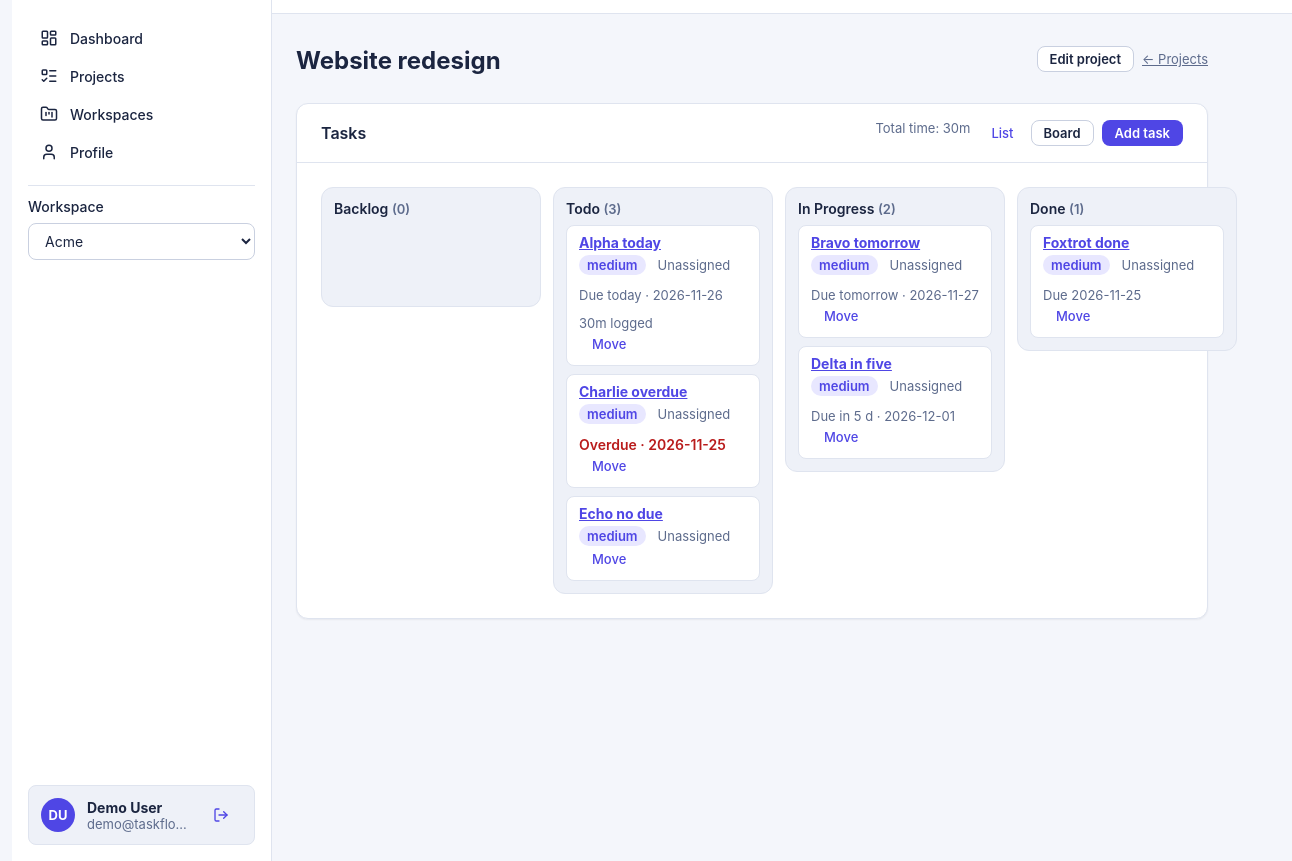
Scenario: ux-polish @w2 — "Board view is deep-linkable via the view param" › ?view=board renders the board; toggling writes ?view=list
The image size is (1292, 861).
Expected: the element with class "board" is shown, [321,187,1183,594]
Click the button "List" at (1002, 133), box [978,120,1026,146]
(page scrolled)
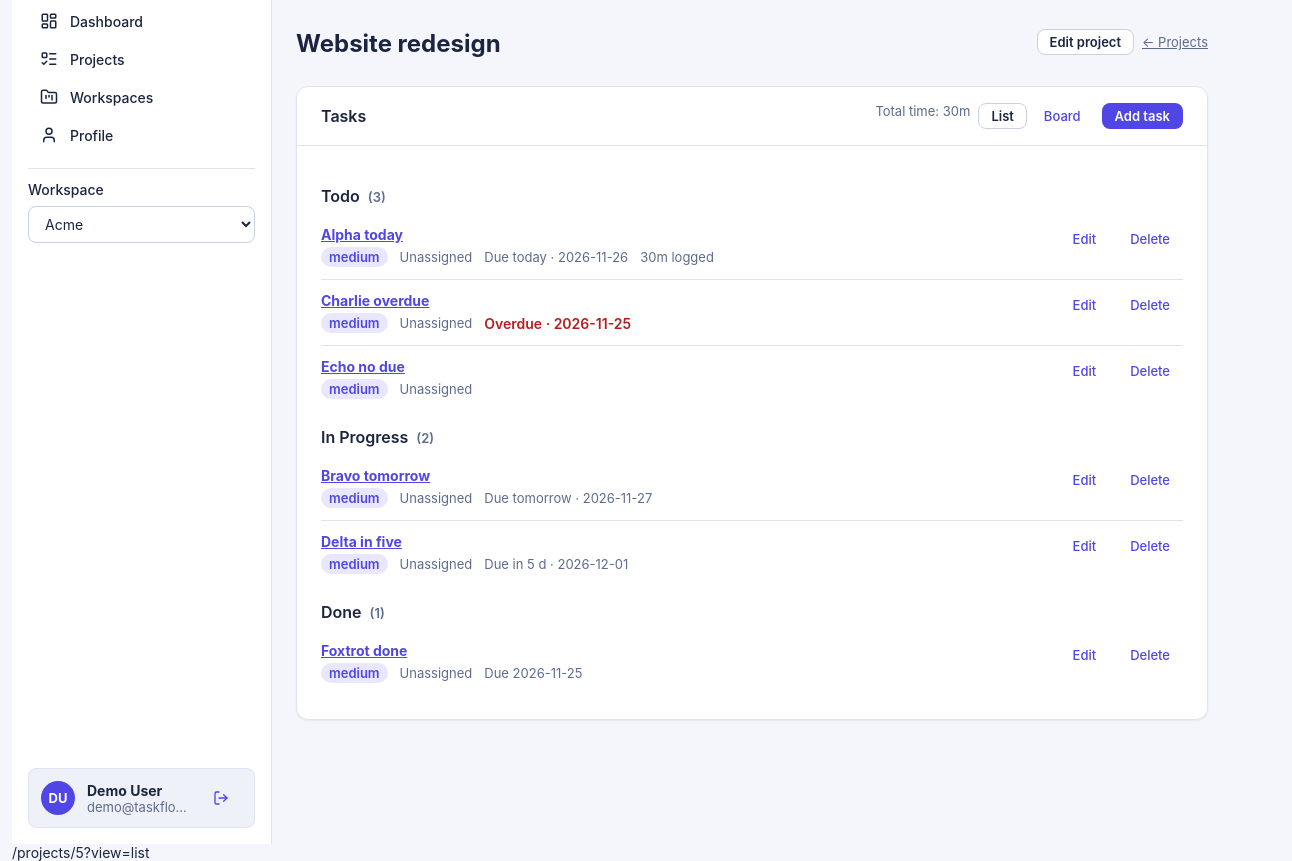
Expected: the text with test id "loc" shows "view=list", [84,844,150,860]
Expected: the element with class "board" is gone
